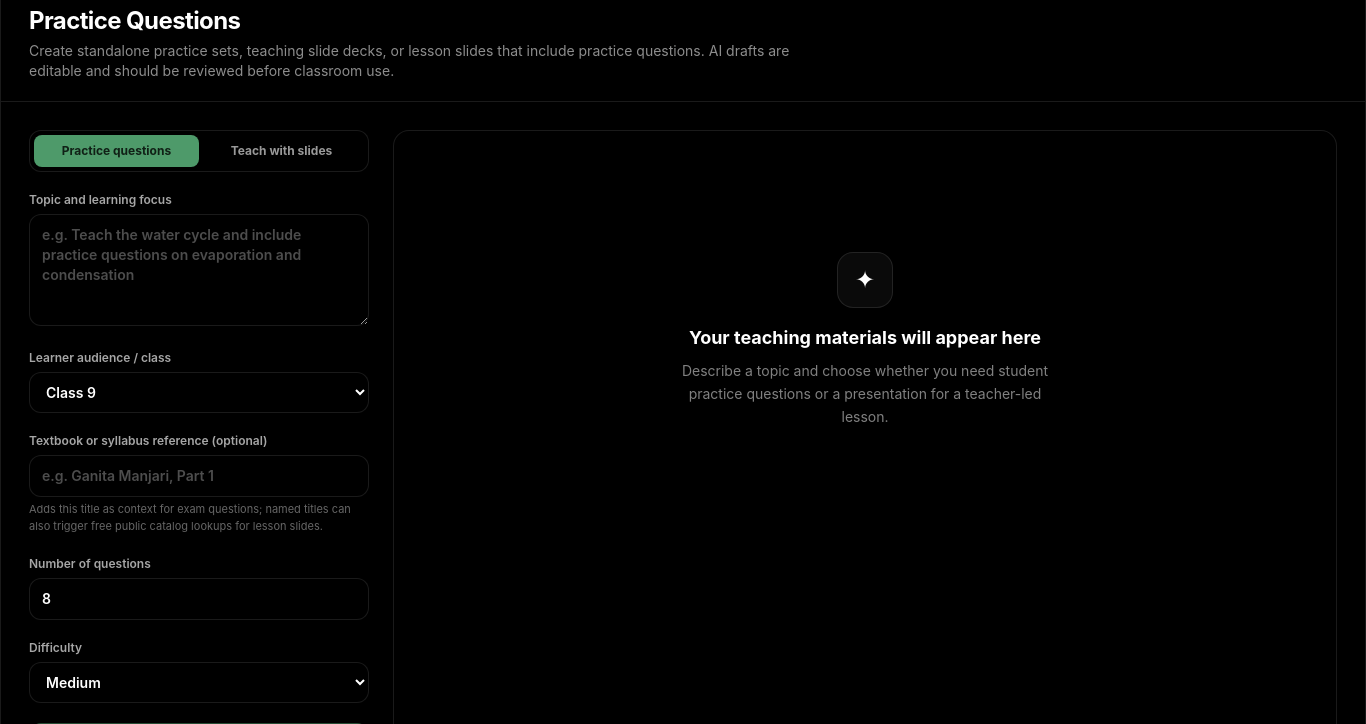
Test: Practice Questions view › creates question-only practice slides without putting answers in the prompt notes guidance
Click the tab "Teach with slides" at (282, 150), box [199,134,364,166]
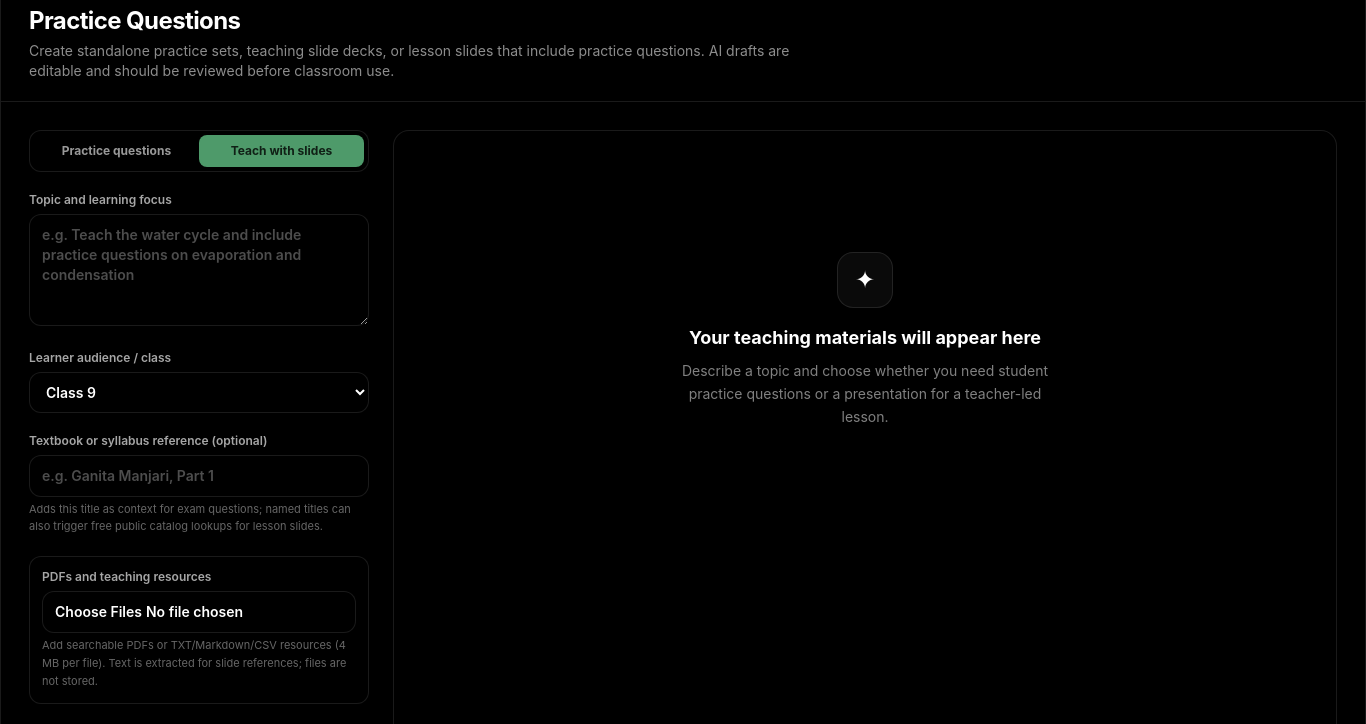
Replace the text in the text box labelled "Topic and learning focus" with "Practice questions on fractions, questions only without answers" at (199, 270), box [29,214,369,326]
(page scrolled)
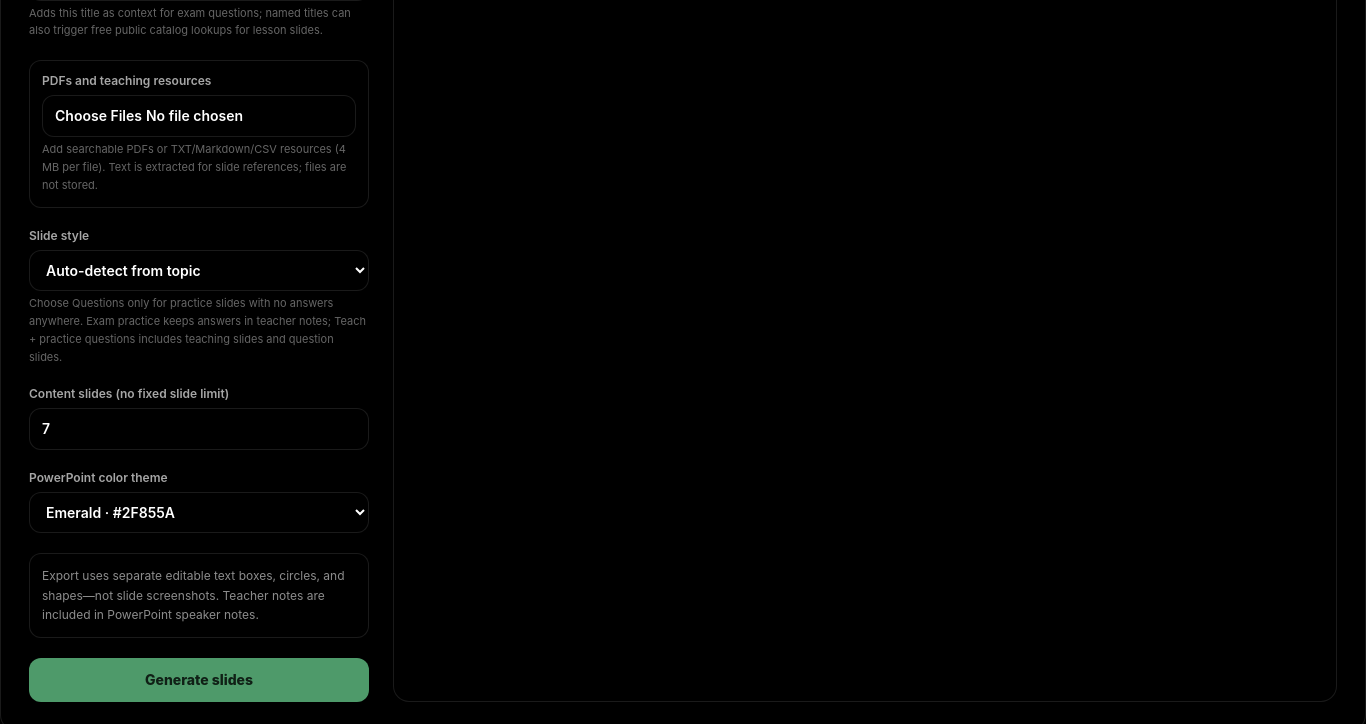
Click the button "Generate slides" at (199, 680), box [29,658,369,702]
(page scrolled)
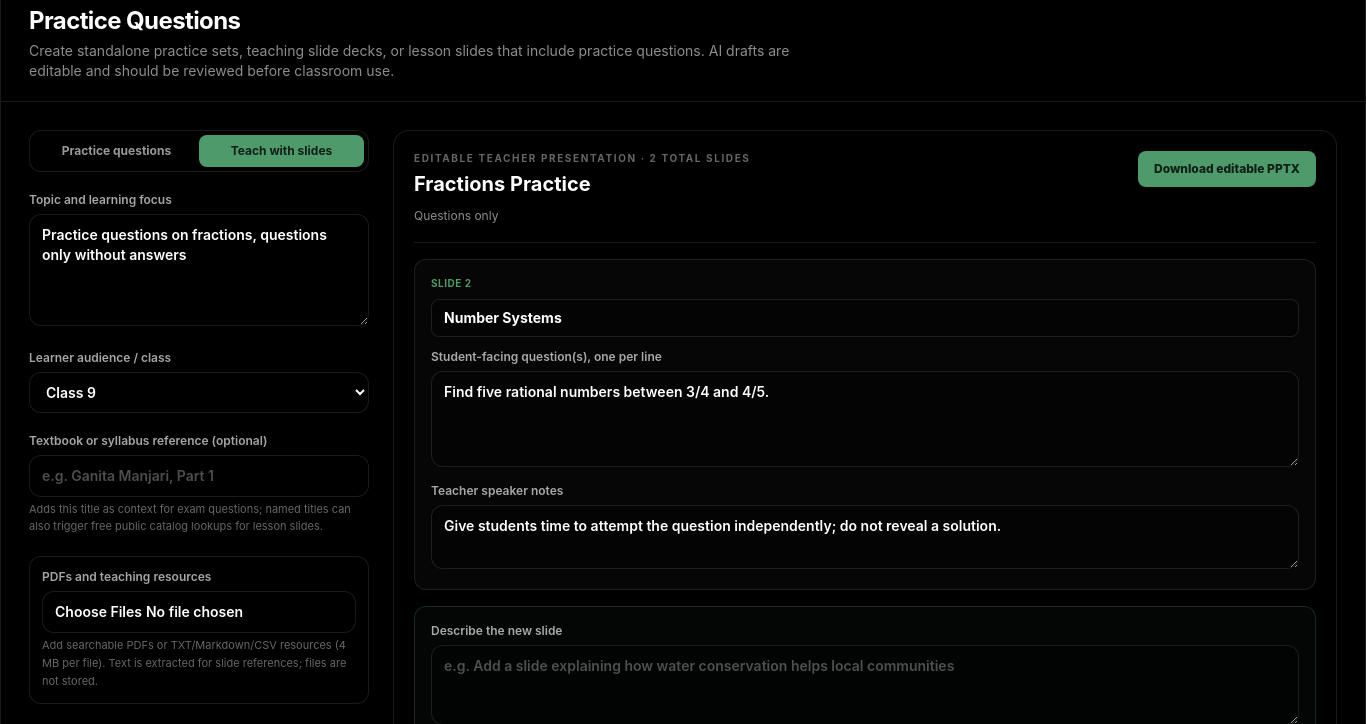
Expected: the text box labelled "Student-facing question(s), one per line" holds "Find five rational numbers between 3/4 and 4/5.", [431,370,1299,466]
Expected: the text box labelled "Teacher speaker notes" holds "Give students time to attempt the question independently; do not reveal a solution.", [431,504,1299,568]
